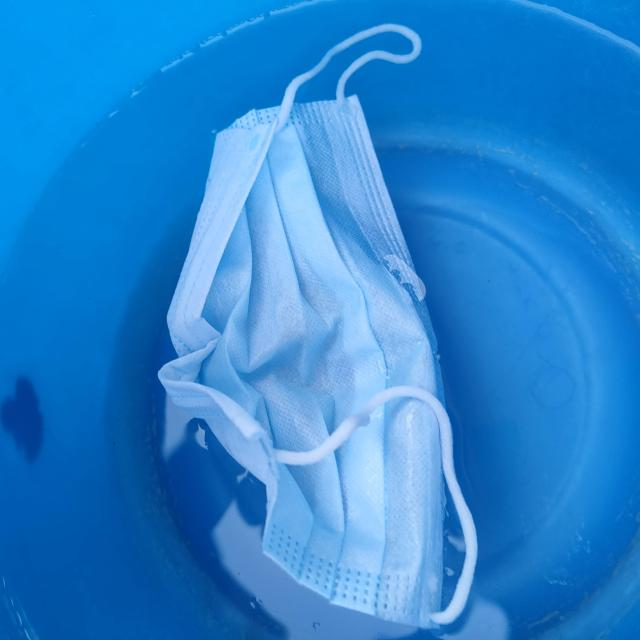litter: (169, 15, 502, 640)
